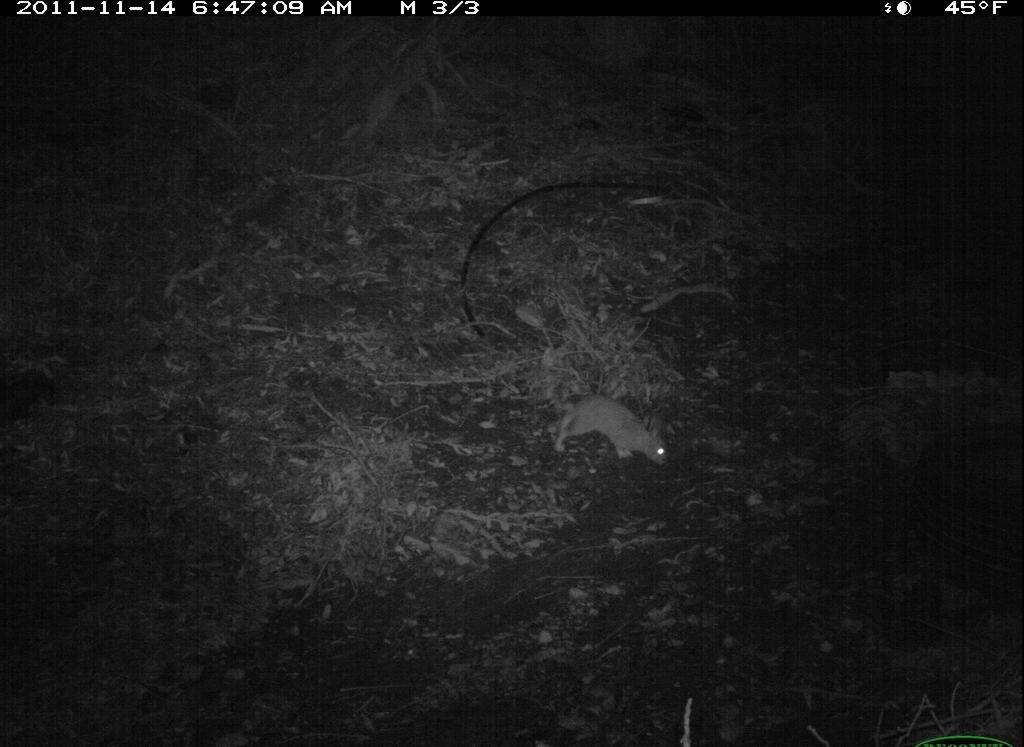rabbit: (546, 386, 675, 477)
